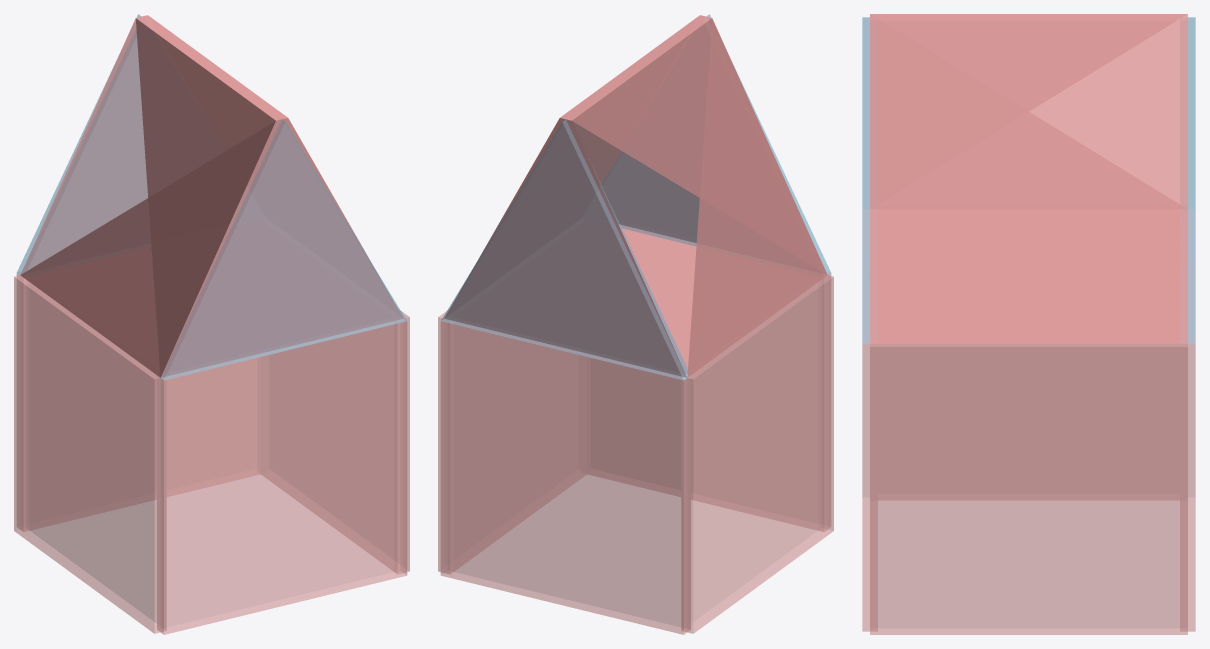
The model's file is casa_step8.glb.
3 views of the same model, side by side, from view 1: azimuth 30°, elevation 25°; view 2: azimuth 150°, elevation 25°; view 3: azimuth 270°, elevation 25° (orthographic). The views are drawn at different scales.
Visible parts, largest first — view 1: roof_E, qN, qW, qS, gable_N, qE, gable_S; view 2: roof_E, qS, qW, qN, gable_S, qE, gable_N; view 3: roof_E, qE, qW, qN, qS, gable_N, gable_S.
Boxes of the visible parts, left/top/right/bottom form: roof_E: left=20, top=15, right=403, bottom=377; qN: left=157, top=319, right=407, bottom=634; qW: left=14, top=275, right=166, bottom=633; qS: left=16, top=272, right=259, bottom=531; gable_N: left=161, top=119, right=406, bottom=380; qE: left=261, top=310, right=409, bottom=574; gable_S: left=17, top=14, right=147, bottom=274; roof_E: left=444, top=15, right=827, bottom=377; qS: left=440, top=319, right=690, bottom=634; qW: left=681, top=275, right=833, bottom=633; qN: left=588, top=225, right=831, bottom=531; gable_S: left=441, top=119, right=687, bottom=380; qE: left=438, top=310, right=586, bottom=574; gable_N: left=601, top=14, right=830, bottom=274; roof_E: left=870, top=14, right=1187, bottom=343; qE: left=870, top=343, right=1187, bottom=634; qW: left=878, top=344, right=1179, bottom=500; qN: left=862, top=209, right=877, bottom=631; qS: left=1180, top=209, right=1195, bottom=631; gable_N: left=862, top=17, right=869, bottom=343; gable_S: left=1188, top=17, right=1195, bottom=343.
Bounding box in the file's own units: 1.05 × 1.9 × 1.05.
